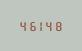eight: (54, 20, 62, 31)
four: (18, 20, 26, 31), (45, 20, 53, 31)
one: (36, 20, 44, 31)
six: (27, 20, 35, 31)
